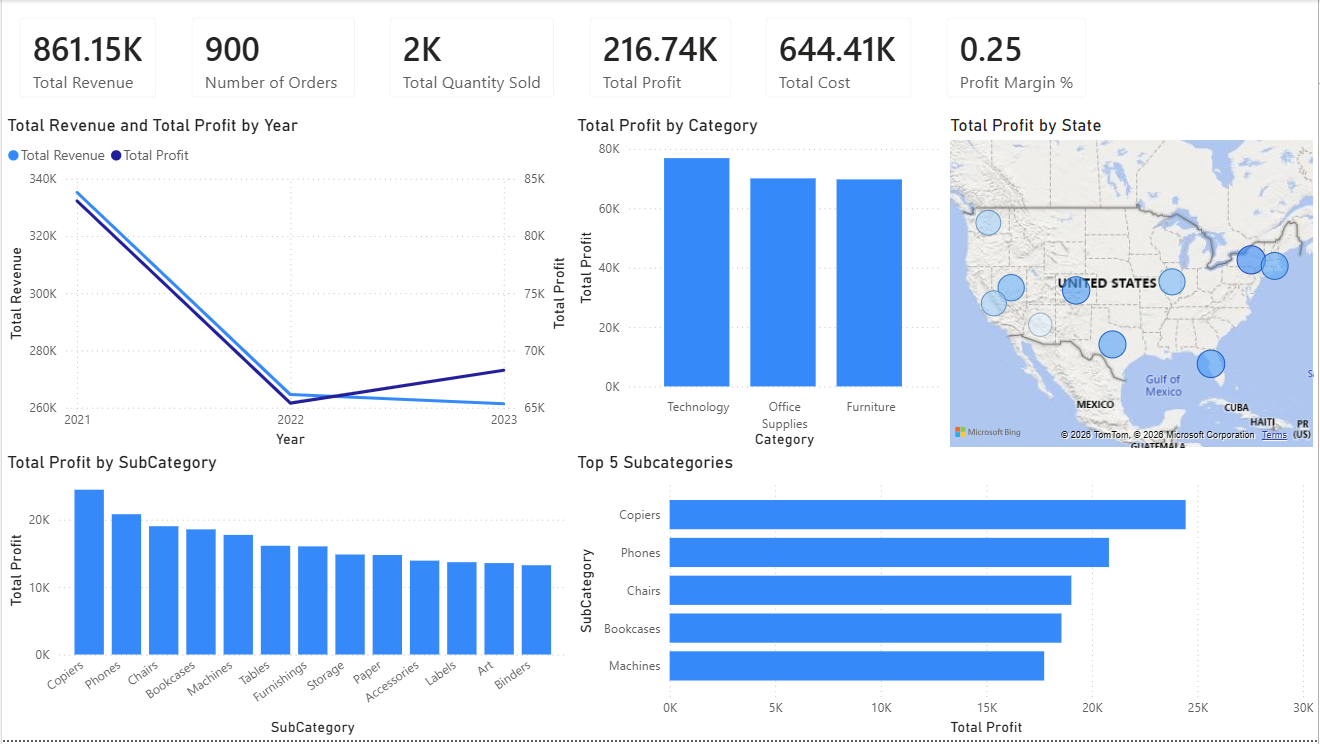

What the dashboard file says about the page in this screenshot:
{"tool":"powerbi","page":{"name":"Senior Management Report Page","canvas":[1280,720],"ordinal":0},"visuals":[{"type":"cardVisual","fields":{"Data":["Retail Sales Performance Analysis Dataset.Total Revenue"]},"box":[0,0,167,112],"z":0},{"type":"cardVisual","fields":{"Data":["Retail Sales Performance Analysis Dataset.Total Profit"]},"box":[554,0,172,112],"z":1000},{"type":"cardVisual","fields":{"Data":["Retail Sales Performance Analysis Dataset.Profit Margin %"]},"box":[902,0,170,112],"z":2000},{"type":"cardVisual","fields":{"Data":["Retail Sales Performance Analysis Dataset.Number of Orders"]},"box":[167,0,193,112],"z":3000},{"type":"cardVisual","fields":{"Data":["Retail Sales Performance Analysis Dataset.Total Quantity Sold"]},"box":[360,0,194,112],"z":4000},{"type":"cardVisual","fields":{"Data":["Retail Sales Performance Analysis Dataset.Total Cost"]},"box":[726,0,176,112],"z":5000},{"type":"lineChart","fields":{"Y":["Retail Sales Performance Analysis Dataset.Total Revenue"],"Category":["Retail Sales Performance Analysis Dataset.OrderDate.Variation.Date Hierarchy.Year","Retail Sales Performance Analysis Dataset.OrderDate.Variation.Date Hierarchy.Quarter","Retail Sales Performance Analysis Dataset.OrderDate.Variation.Date Hierarchy.Month","Retail Sales Performance Analysis Dataset.OrderDate.Variation.Date Hierarchy.Day"],"Y2":["Retail Sales Performance Analysis Dataset.Total Profit"]},"box":[0,112,554,328],"z":6000},{"type":"columnChart","fields":{"Category":["Retail Sales Performance Analysis Dataset.Category"],"Y":["Retail Sales Performance Analysis Dataset.Total Profit"]},"box":[554,112,363,328],"z":7000},{"type":"barChart","title":"Top 5 Subcategories","fields":{"Category":["Retail Sales Performance Analysis Dataset.SubCategory"],"Y":["Retail Sales Performance Analysis Dataset.Total Profit"]},"box":[554,440,726,280],"z":8000},{"type":"columnChart","fields":{"Y":["Retail Sales Performance Analysis Dataset.Total Profit"],"Category":["Retail Sales Performance Analysis Dataset.SubCategory"]},"box":[0,440,554,280],"z":9000},{"type":"map","fields":{"Category":["Retail Sales Performance Analysis Dataset.State"],"Size":["Retail Sales Performance Analysis Dataset.Total Profit"]},"box":[917.2,111.9,362.8,327.8],"z":10000}]}

Visuals, with their boxes in screenshot pixels (x1, y1, x2, y2), scaled from the page's 1280x720 canvas onto the 1320x744 screenshot:
cardVisual - Retail Sales Performance Analysis Dataset.Total Revenue: bbox=[0, 0, 172, 116]
cardVisual - Retail Sales Performance Analysis Dataset.Total Profit: bbox=[571, 0, 749, 116]
cardVisual - Retail Sales Performance Analysis Dataset.Profit Margin %: bbox=[930, 0, 1106, 116]
cardVisual - Retail Sales Performance Analysis Dataset.Number of Orders: bbox=[172, 0, 371, 116]
cardVisual - Retail Sales Performance Analysis Dataset.Total Quantity Sold: bbox=[371, 0, 571, 116]
cardVisual - Retail Sales Performance Analysis Dataset.Total Cost: bbox=[749, 0, 930, 116]
lineChart - Retail Sales Performance Analysis Dataset.Total Revenue x Retail Sales Performance Analysis Dataset.OrderDate.Variation.Date Hierarchy.Year: bbox=[0, 116, 571, 455]
columnChart - Retail Sales Performance Analysis Dataset.Category x Retail Sales Performance Analysis Dataset.Total Profit: bbox=[571, 116, 946, 455]
"Top 5 Subcategories" barChart: bbox=[571, 455, 1319, 743]
columnChart - Retail Sales Performance Analysis Dataset.Total Profit x Retail Sales Performance Analysis Dataset.SubCategory: bbox=[0, 455, 571, 743]
map - Retail Sales Performance Analysis Dataset.State x Retail Sales Performance Analysis Dataset.Total Profit: bbox=[946, 116, 1319, 454]
